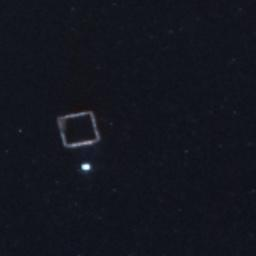square_solid: (55, 108, 105, 152)
